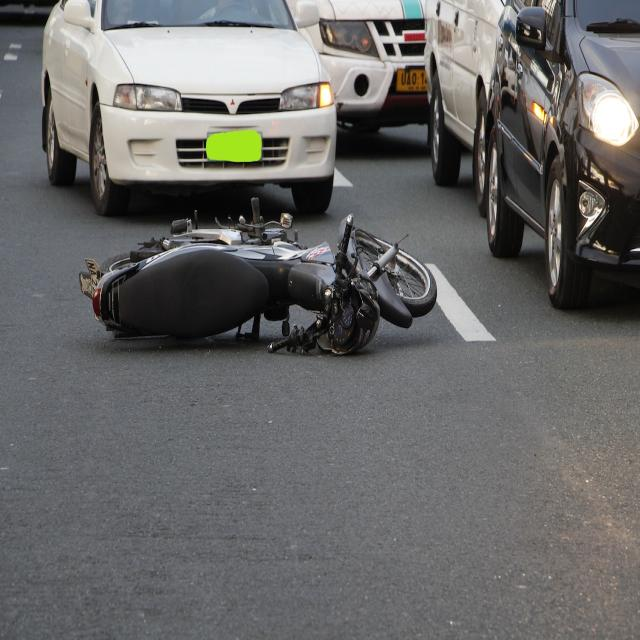accident: (80, 197, 436, 355)
car: (41, 0, 336, 215), (486, 0, 640, 308)
